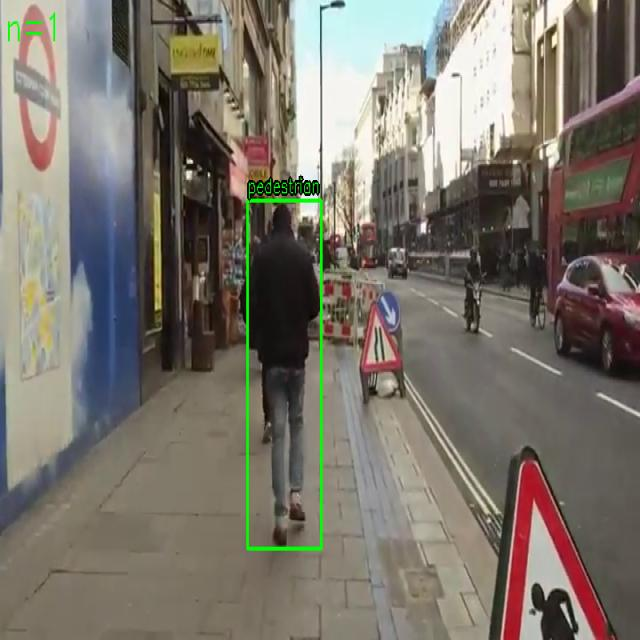with scooter: (247, 200, 322, 549)
